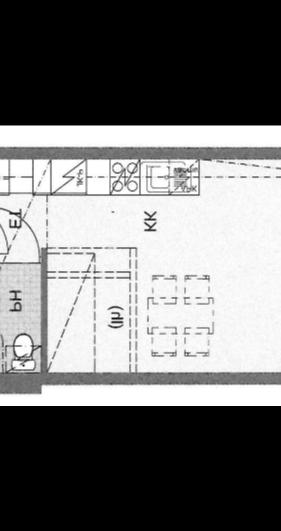door: (0, 205, 42, 268)
